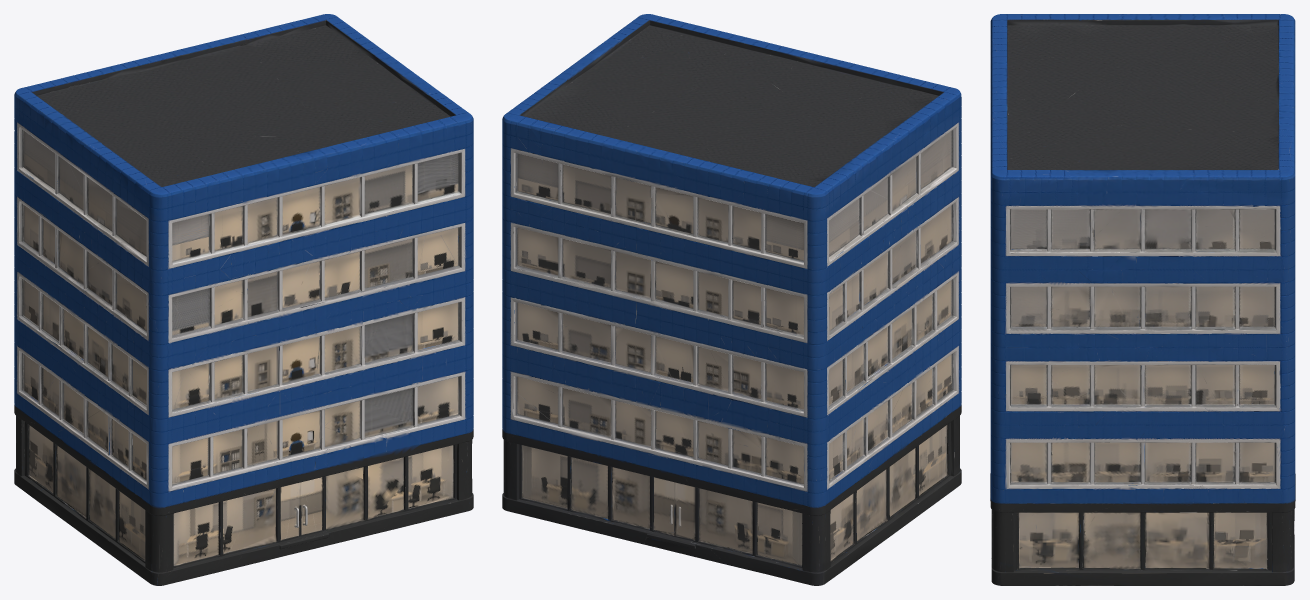
File: 事業所ビル_青.glb
The picture shows the model from 3 angles, left to right: view 1: azimuth 30°, elevation 25°; view 2: azimuth 150°, elevation 25°; view 3: azimuth 270°, elevation 25°; orthographic projection. The views are drawn at different scales.
Size of the model in its own units: 1.64 by 1.9 by 1.29.
1 material, 1 textured.
